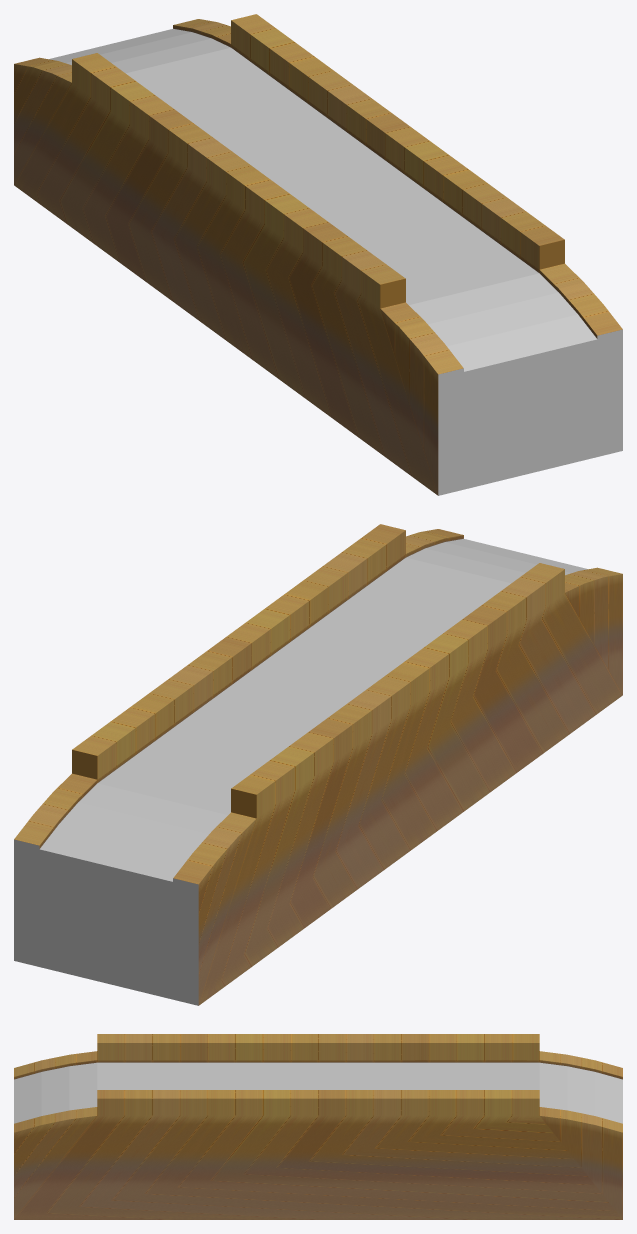
The model's file is Bridge02_d01_col.FBX.
3 renders of one model, top to bottom at view 1: azimuth 30°, elevation 25°; view 2: azimuth 150°, elevation 25°; view 3: azimuth 270°, elevation 25°, orthographic. The views are drawn at different scales.
Visible parts, largest first — view 1: Bridge02_d01_col; view 2: Bridge02_d01_col; view 3: Bridge02_d01_col.
Part boxes in pixels (box(x1,y1,x2,y2)): Bridge02_d01_col: box(14, 14, 622, 495); Bridge02_d01_col: box(14, 524, 622, 1005); Bridge02_d01_col: box(14, 1034, 622, 1219).
Size of the model in its own units: 985 by 860 by 3921.
